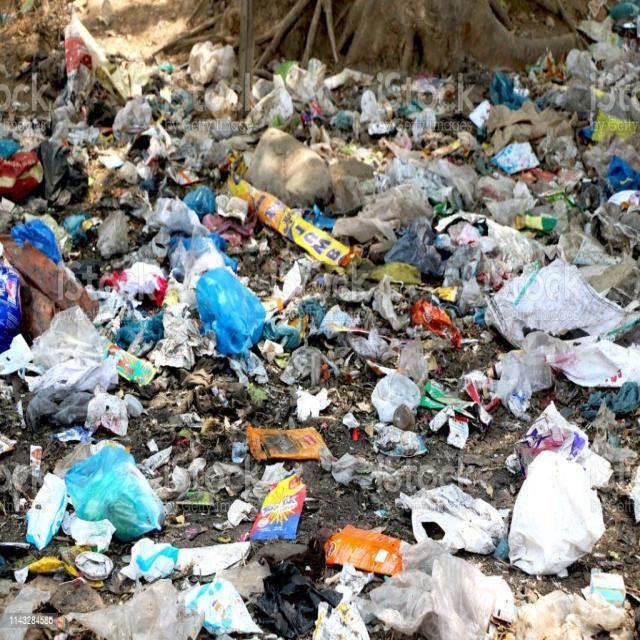garbage: (1, 16, 640, 640)
